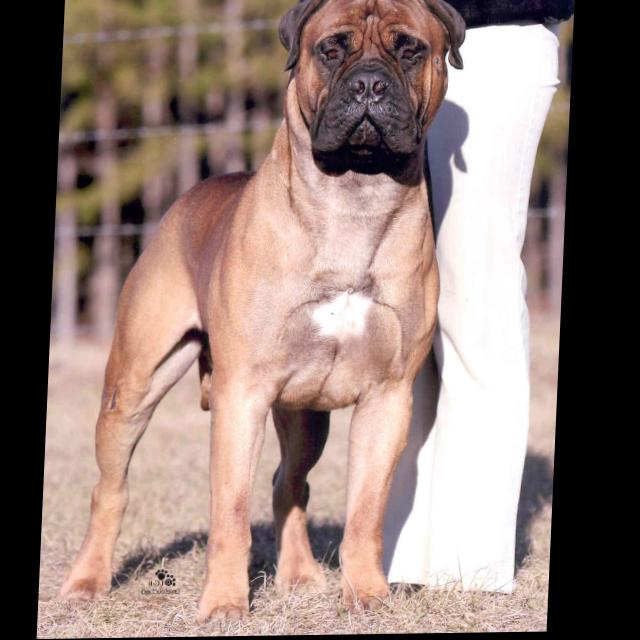bullmastiff: (63, 1, 469, 630)
person: (278, 1, 575, 603)
